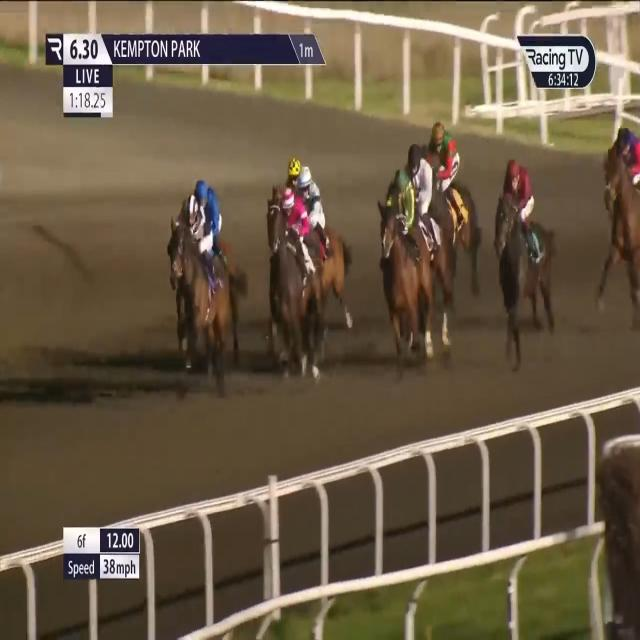horses-racing: (168, 184, 248, 390), (490, 154, 560, 354), (375, 168, 442, 371), (292, 165, 362, 352), (264, 180, 329, 372), (189, 168, 246, 324), (426, 116, 479, 270), (602, 124, 640, 338), (402, 134, 451, 286), (278, 148, 304, 202)
